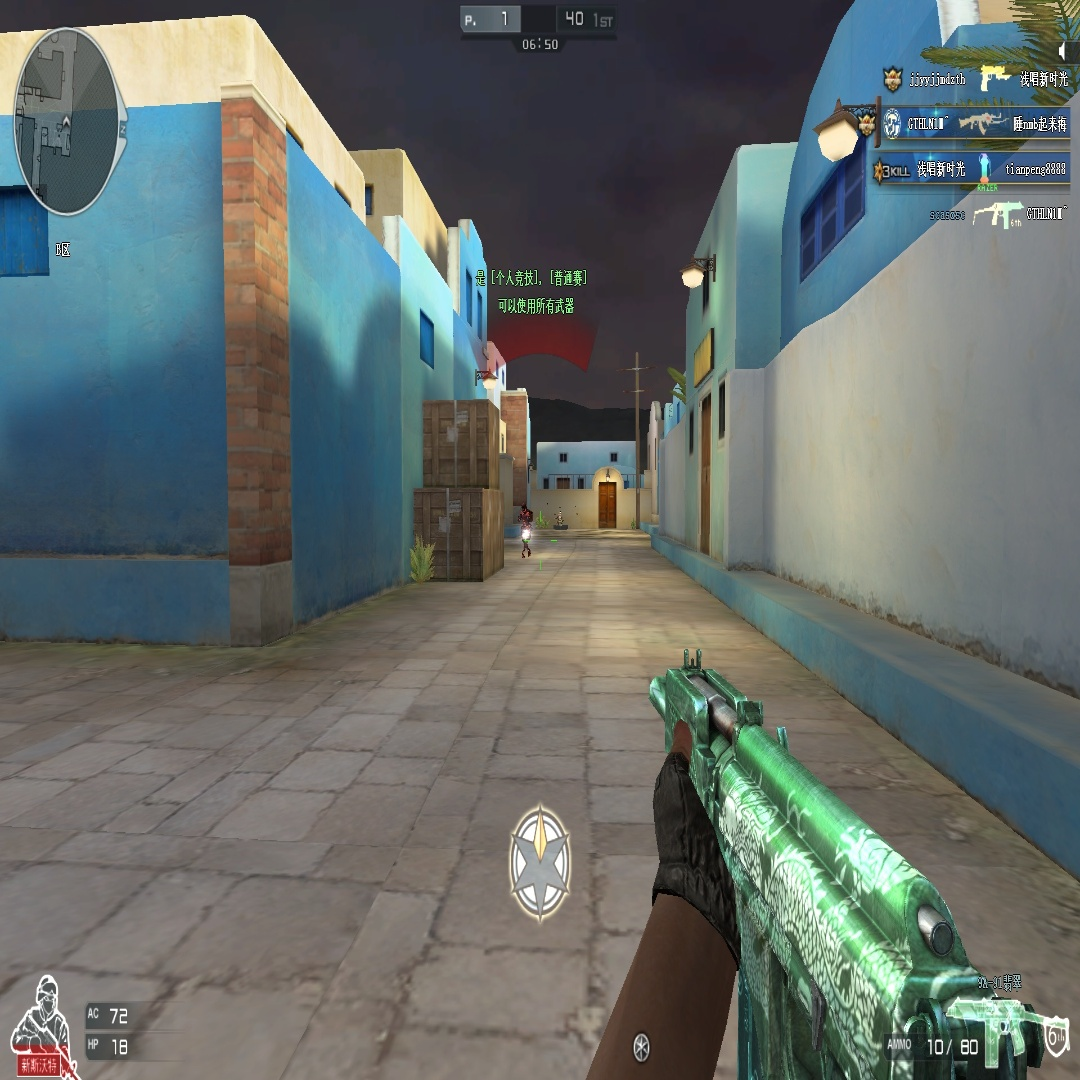head: (521, 503, 527, 513)
p: (519, 505, 534, 560)
